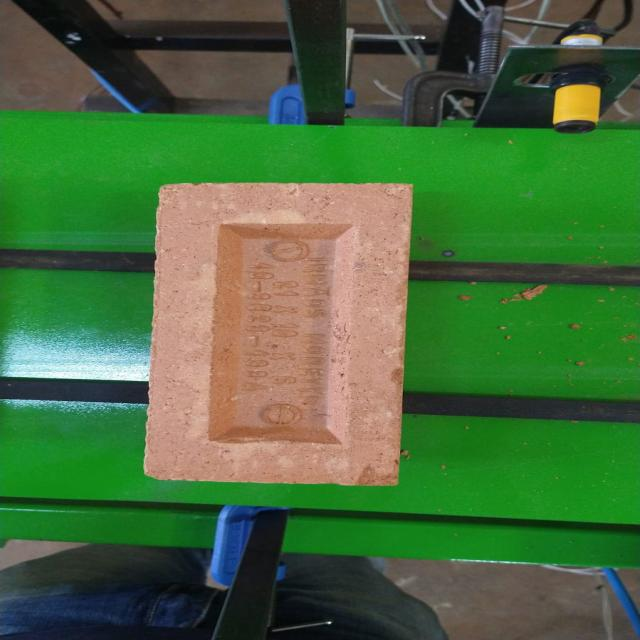bricks: (139, 183, 408, 485)
